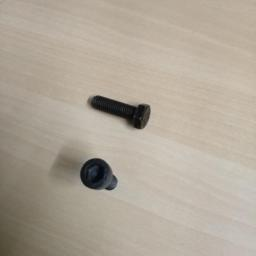screwtype1black: (77, 157, 119, 196)
screwtype2black: (87, 91, 152, 132)
